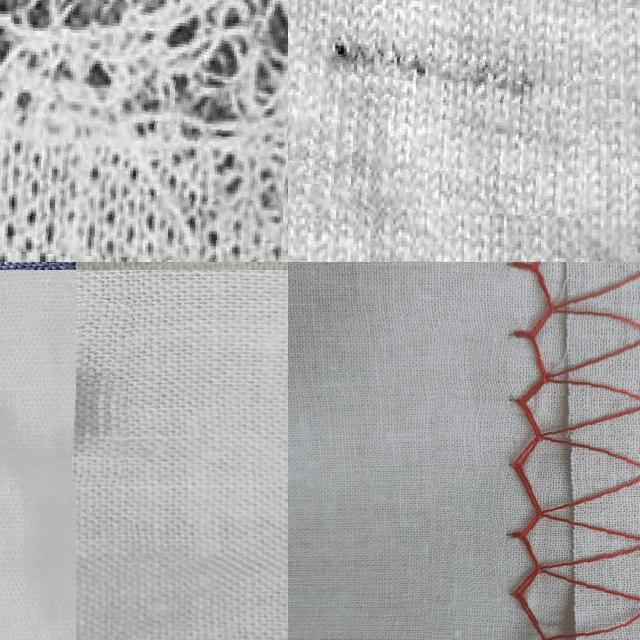Thread_other: (74, 298, 132, 482)
Thread_out: (423, 262, 640, 640)
stains: (288, 0, 591, 213)
